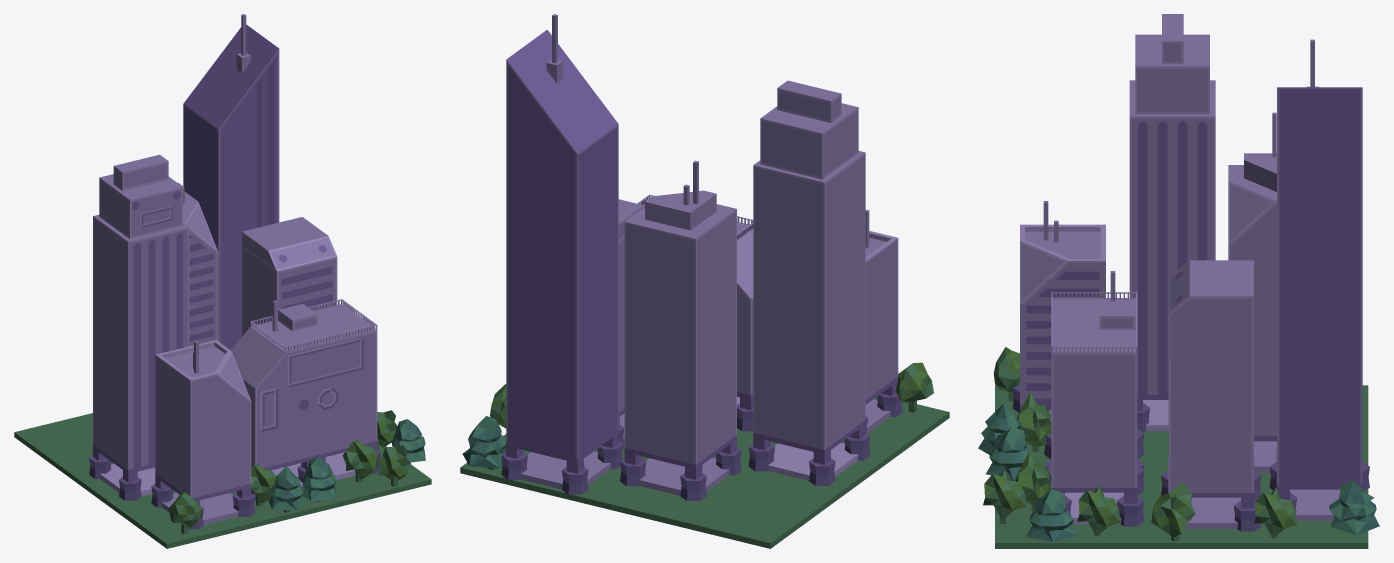
File: Apartments(Elevated).fbx
3 views of the same model, side by side, from view 1: azimuth 30°, elevation 25°; view 2: azimuth 150°, elevation 25°; view 3: azimuth 270°, elevation 25° (orthographic). The views are drawn at different scales.
Visible parts, largest first — view 1: Apartment2(Elevated), Apartment6(Elevated), Apartment4(Elevated), Apartment(Ground), Apartment1(Elevated), Apartment5(Elevated), Apartment3(Elevated), Apartments(SeismicIsolators); view 2: Apartment4(Elevated), Apartment2(Elevated), Apartment3(Elevated), Apartment(Ground), Apartment1(Elevated), Apartments(SeismicIsolators), Apartment6(Elevated), Apartment5(Elevated); view 3: Apartment4(Elevated), Apartment(Ground), Apartment2(Elevated), Apartment5(Elevated), Apartment6(Elevated), Apartment3(Elevated), Apartment1(Elevated), Apartments(SeismicIsolators).
Part boxes in pixels (x1,y1,x2,y2): Apartment2(Elevated): [93, 154, 189, 496]; Apartment6(Elevated): [230, 299, 377, 486]; Apartment4(Elevated): [183, 14, 279, 349]; Apartment(Ground): [14, 410, 431, 548]; Apartment1(Elevated): [155, 340, 251, 524]; Apartment5(Elevated): [242, 217, 337, 336]; Apartment3(Elevated): [178, 182, 218, 346]; Apartments(SeismicIsolators): [89, 450, 380, 529]; Apartment4(Elevated): [506, 14, 618, 489]; Apartment2(Elevated): [753, 80, 865, 480]; Apartment3(Elevated): [624, 160, 736, 495]; Apartment(Ground): [460, 362, 949, 548]; Apartment1(Elevated): [865, 209, 898, 433]; Apartments(SeismicIsolators): [501, 393, 902, 500]; Apartment6(Elevated): [637, 194, 753, 410]; Apartment5(Elevated): [618, 199, 644, 443]; Apartment4(Elevated): [1276, 39, 1362, 520]; Apartment(Ground): [978, 347, 1379, 548]; Apartment2(Elevated): [1129, 14, 1215, 431]; Apartment5(Elevated): [1168, 260, 1254, 529]; Apartment6(Elevated): [1051, 271, 1137, 524]; Apartment3(Elevated): [1228, 112, 1276, 472]; Apartment1(Elevated): [1020, 201, 1105, 421]; Apartments(SeismicIsolators): [1012, 385, 1369, 531].
Size of the model in its own units: 185 by 244 by 188.
